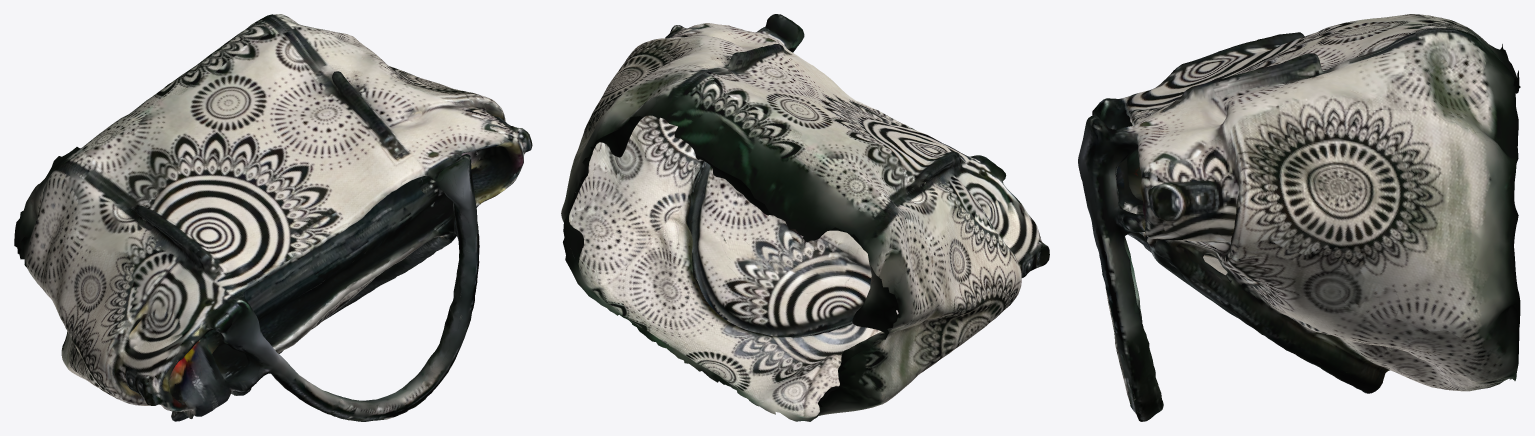
Rendered from bag2.obj.
The picture shows the model from 3 angles, left to right: view 1: azimuth 30°, elevation 25°; view 2: azimuth 150°, elevation 25°; view 3: azimuth 270°, elevation 25°; orthographic projection. The views are drawn at different scales.
Parts seen in each view (by area): view 1: bag; view 2: bag; view 3: bag.
Boxes of the visible parts, x1,y1,x2,y2 form: bag: (14, 14, 532, 421); bag: (561, 14, 1049, 421); bag: (1078, 14, 1520, 421).
Bounding box in the file's own units: 0.7663 × 0.5736 × 0.5681.
1 material, 1 textured.
